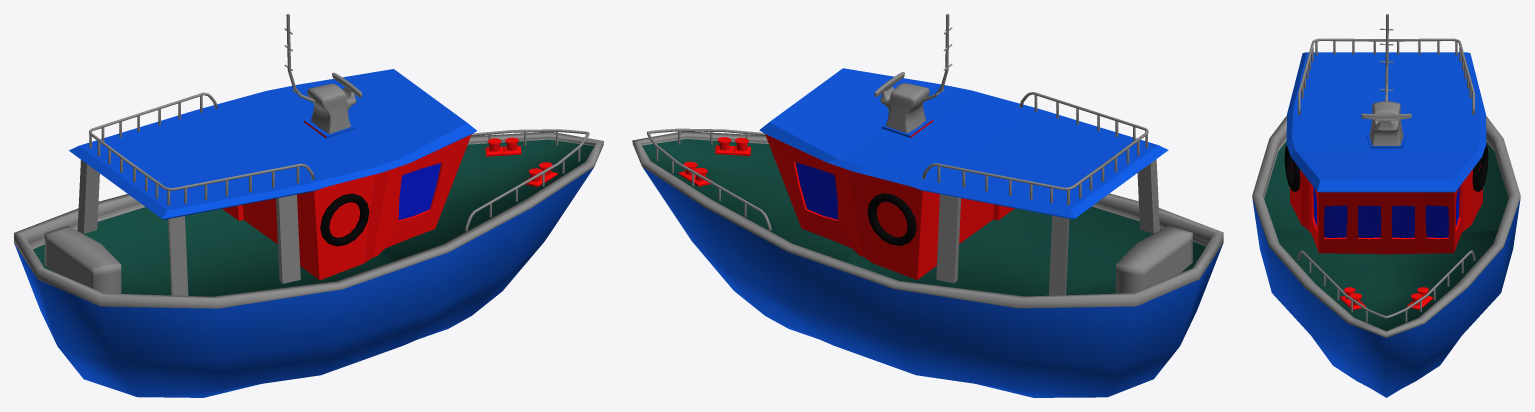
The model's file is boat.fbx.
3 renders of one model, left to right at view 1: azimuth 30°, elevation 25°; view 2: azimuth 150°, elevation 25°; view 3: azimuth 270°, elevation 25°, orthographic. The views are drawn at different scales.
Visible parts, largest first — view 1: Plane, Plane.001, Plane.004, Cylinder.005, Plane.003, Cylinder.015, Torus, Plane.002; view 2: Plane, Plane.001, Plane.004, Cylinder.005, Plane.003, Cylinder.015, Torus, Plane.002; view 3: Plane.001, Plane, Cylinder.005, Plane.003, Cylinder.015, Torus, Plane.002, Cylinder.
Boxes of the visible parts, x1,y1,x2,y2 form: Plane: [14, 132, 603, 397]; Plane.001: [69, 69, 476, 295]; Plane.004: [44, 226, 121, 293]; Cylinder.005: [89, 92, 589, 231]; Plane.003: [307, 72, 362, 133]; Cylinder.015: [89, 95, 580, 217]; Torus: [320, 193, 369, 246]; Plane.002: [485, 137, 558, 187]; Plane: [632, 131, 1223, 397]; Plane.001: [759, 68, 1168, 295]; Plane.004: [1116, 225, 1192, 293]; Cylinder.005: [647, 92, 1148, 230]; Plane.003: [874, 72, 929, 133]; Cylinder.015: [656, 95, 1147, 216]; Torus: [867, 193, 916, 245]; Plane.002: [678, 137, 750, 186]; Plane.001: [1286, 52, 1486, 254]; Plane: [1252, 115, 1520, 397]; Cylinder.005: [1297, 38, 1475, 318]; Plane.003: [1361, 101, 1411, 145]; Cylinder.015: [1301, 41, 1471, 322]; Torus: [1284, 145, 1488, 191]; Plane.002: [1339, 287, 1433, 309]; Cylinder: [1380, 14, 1393, 100].
Bounding box in the file's own units: 622 × 377 × 285.
